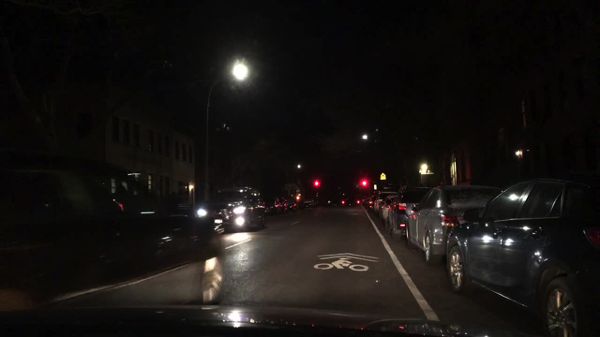car: (0, 152, 222, 315), (445, 177, 599, 336), (403, 185, 503, 272), (195, 185, 267, 232), (384, 185, 432, 247), (372, 192, 398, 218), (379, 195, 399, 222), (264, 198, 282, 216), (368, 195, 382, 216), (362, 198, 377, 212), (279, 201, 289, 215), (289, 200, 298, 215), (301, 200, 312, 210), (359, 199, 369, 209), (312, 201, 317, 208)
traffic light: (361, 178, 366, 188), (314, 177, 317, 189), (341, 200, 347, 205), (355, 199, 361, 204)
traffic sign: (285, 182, 296, 192), (379, 174, 385, 182), (373, 185, 376, 191)
